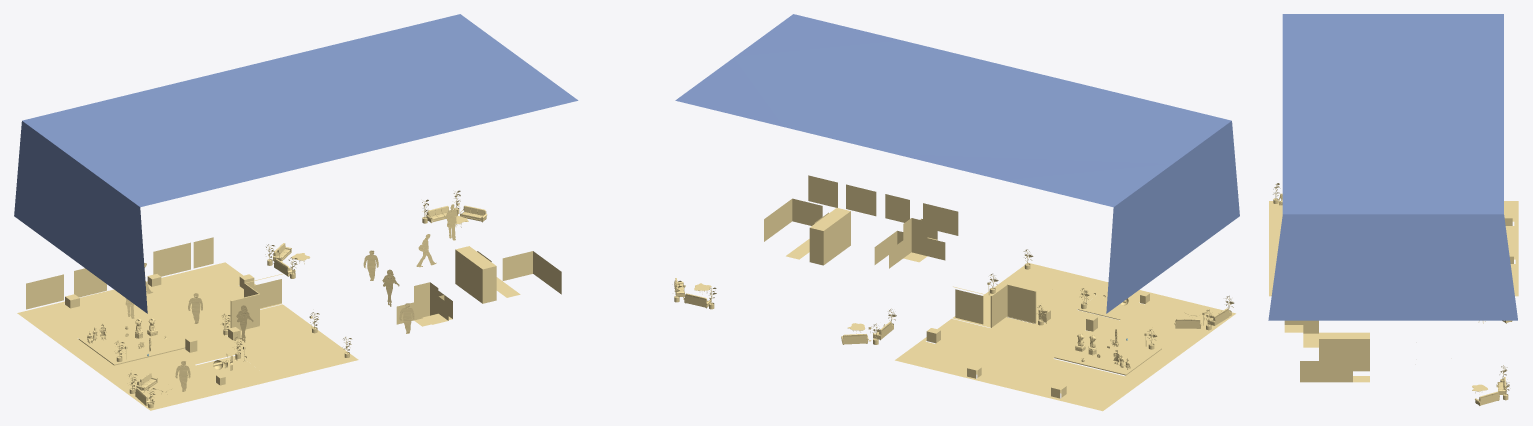
Rendered from open-studios_model.glb.
3 renders of one model, left to right at view 1: azimuth 30°, elevation 25°; view 2: azimuth 150°, elevation 25°; view 3: azimuth 270°, elevation 25°, orthographic. The views are drawn at different scales.
Parts seen in each view (by area): view 1: roof, Layer0; view 2: roof, Layer0; view 3: roof, Layer0.
Boxes of the visible parts, x1,y1,x2,y2 form: roof: (14,14,578,313); Layer0: (17,190,561,410); roof: (675,14,1239,313); Layer0: (674,175,1235,411); roof: (1268,14,1517,320); Layer0: (1269,183,1518,405).
Size of the model in its own units: 9.98 by 4.09 by 4.97.
